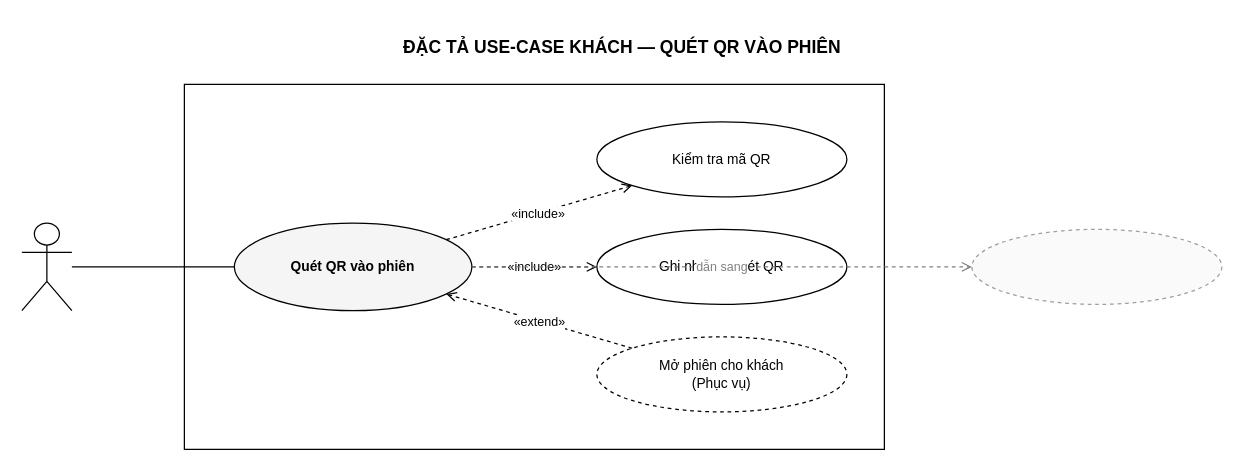
Image size: 1244x471. Some labels were removed from this diagram. Here are the shapes that lost their labels. From the top down, the centre of each, then its label:
pixel 46 266: Khách
pixel 1096 266: Xem thực đơn (UC-02)
